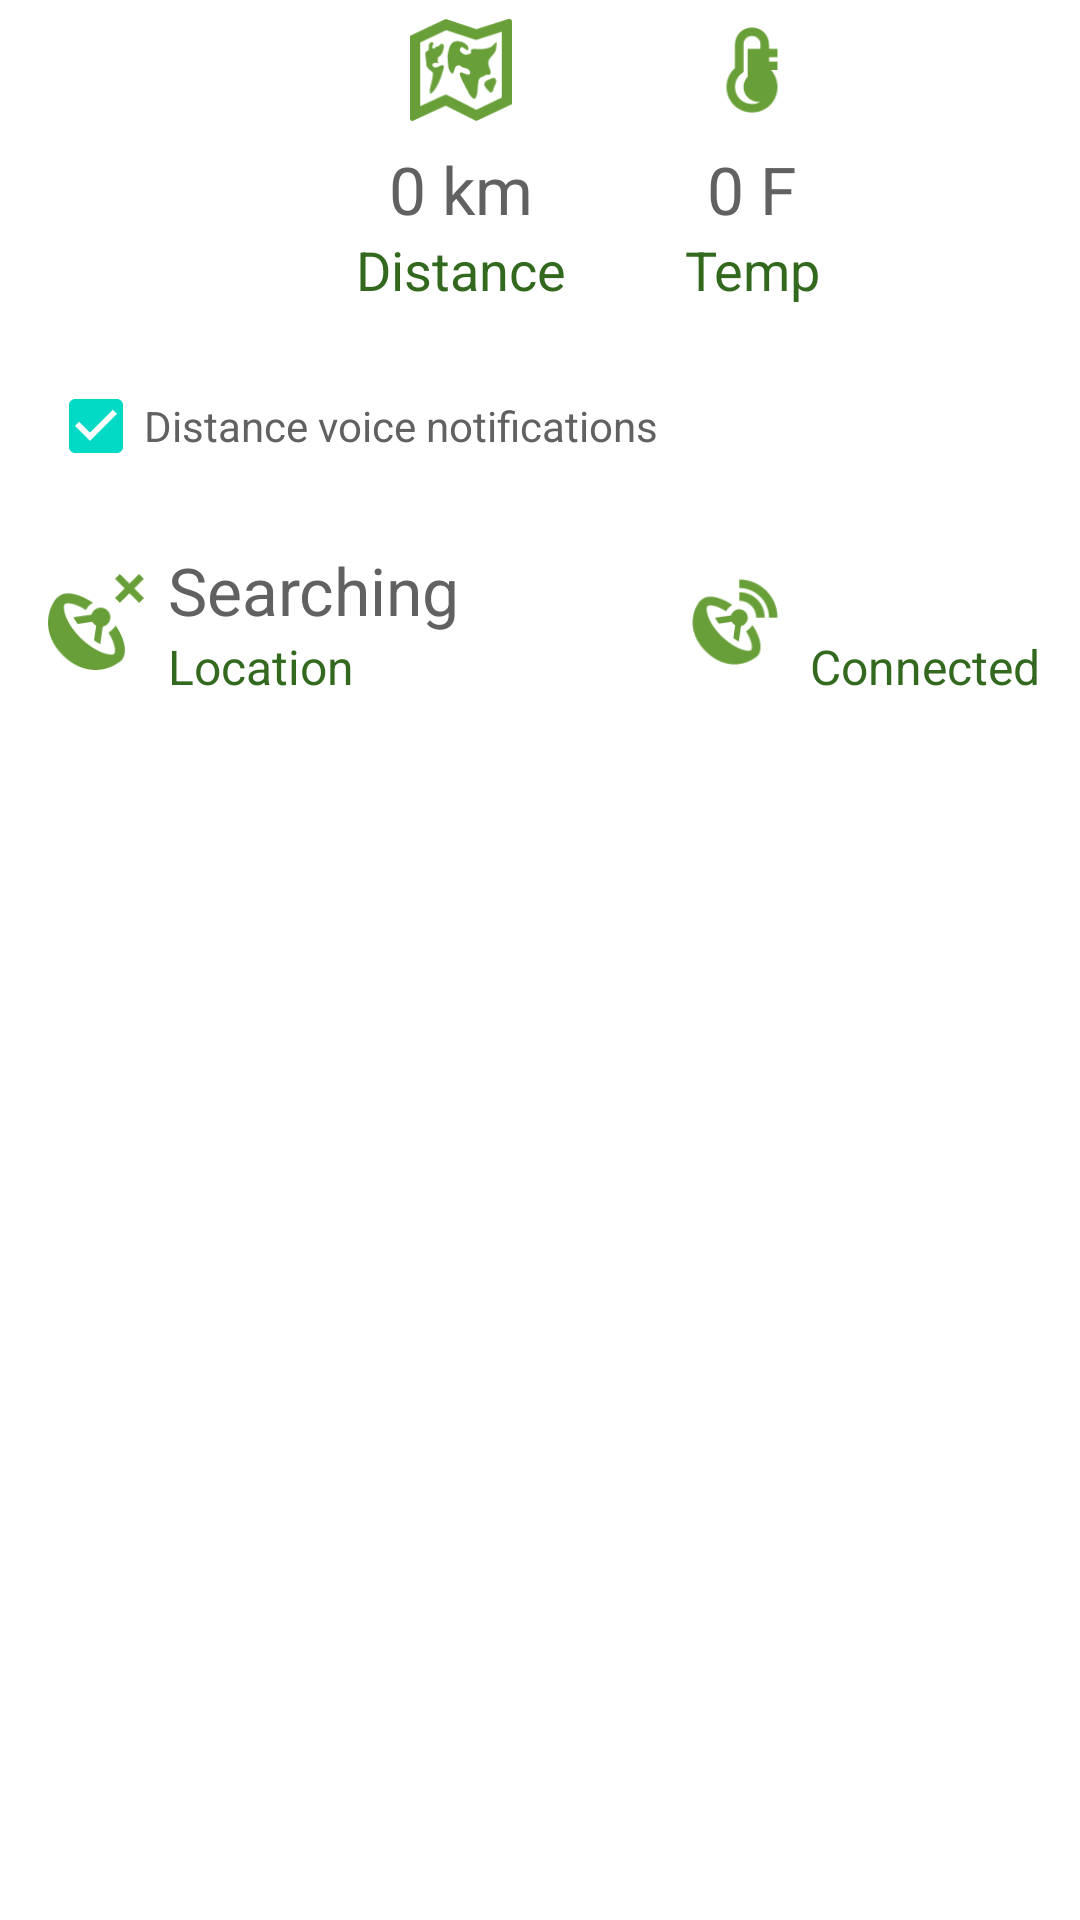

Locate icon controls on the screen. Image size 1080px×1920px, boxes as (x1, y1, x2, y2).
signal: (692, 579, 778, 665)
status: (48, 574, 144, 670)
